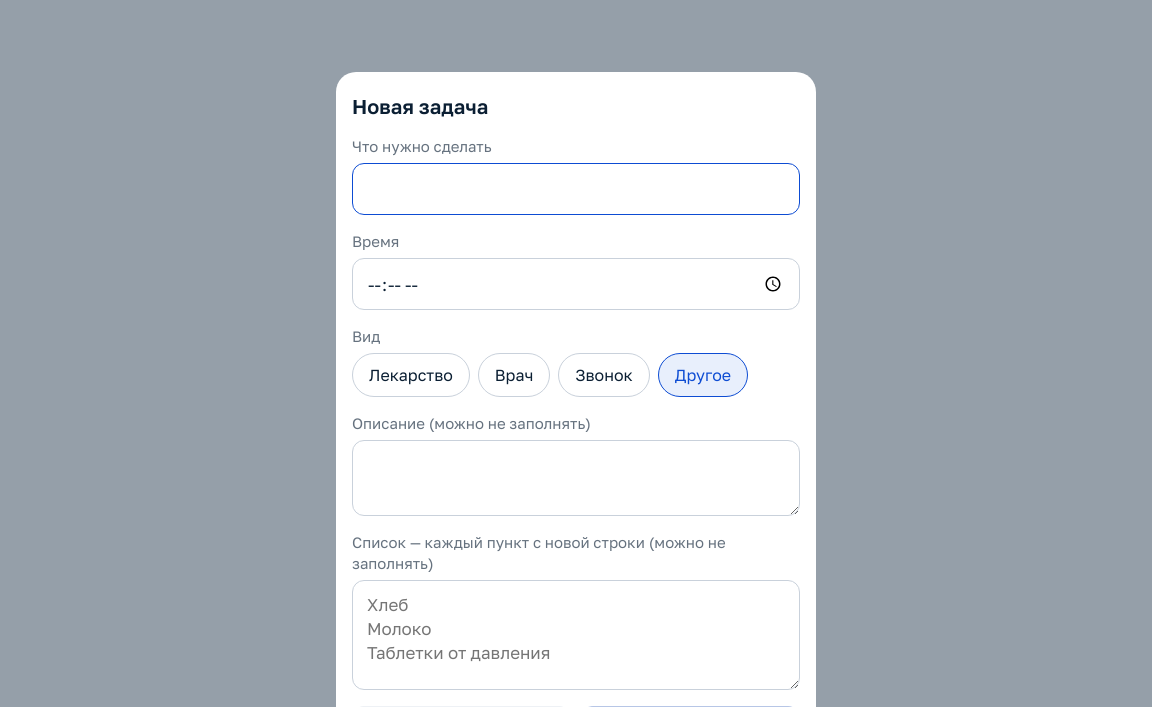
Scenario: AddTaskForm › показывает ошибку сервера и не закрывается
Type "Дело" into the field labelled "Что нужно сделать".
click(576, 189); type("Дело")  # box [352,163,800,215]
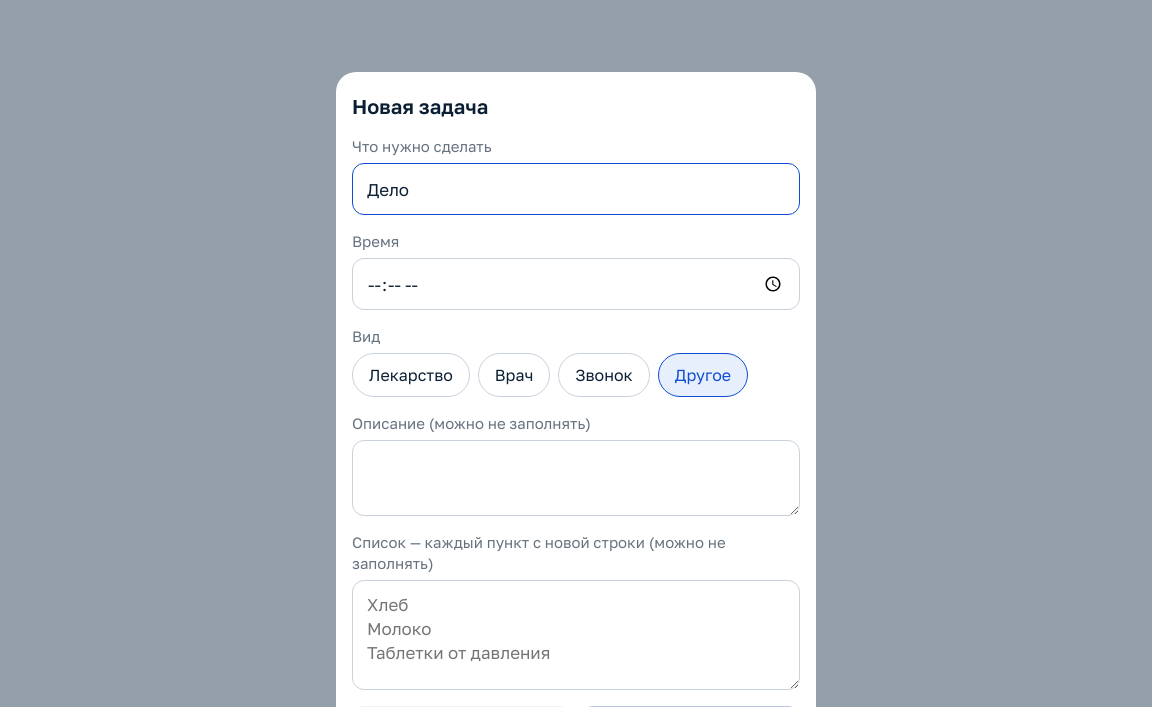
Type "10:00" into the time field labelled "Время".
click(576, 284); type("10:00")  # box [352,258,800,310]
(page scrolled)
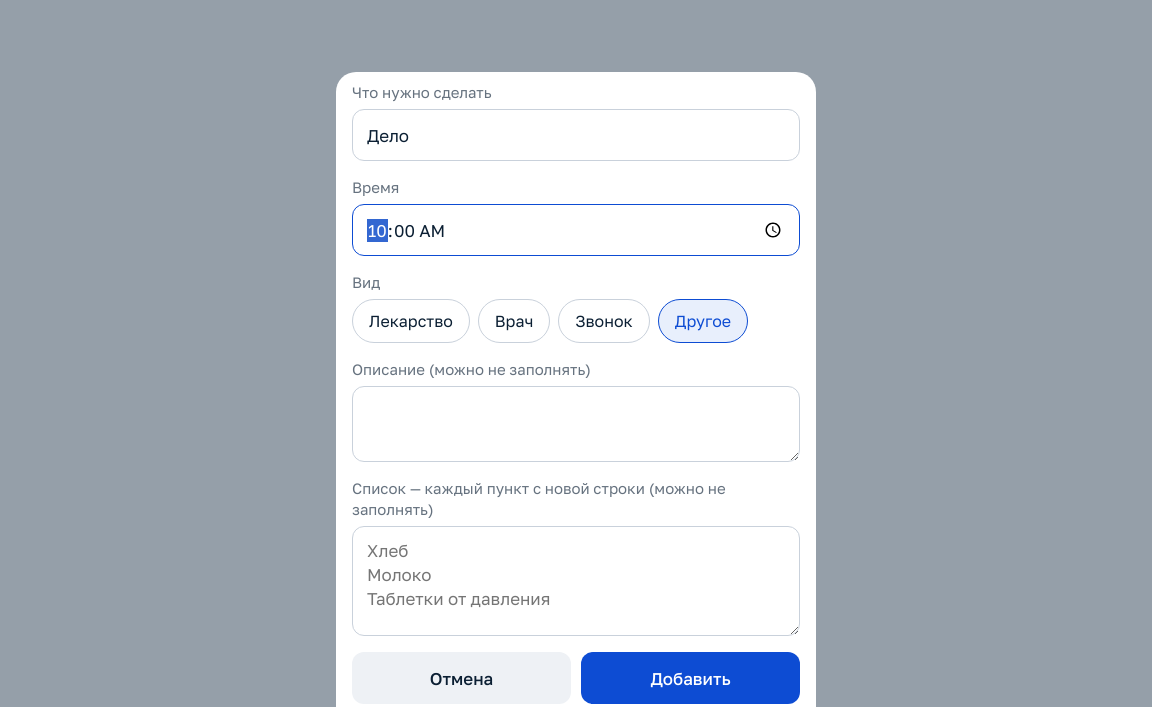
Click the button "Добавить".
click(690, 678)  # box [581,652,800,704]
(page scrolled)
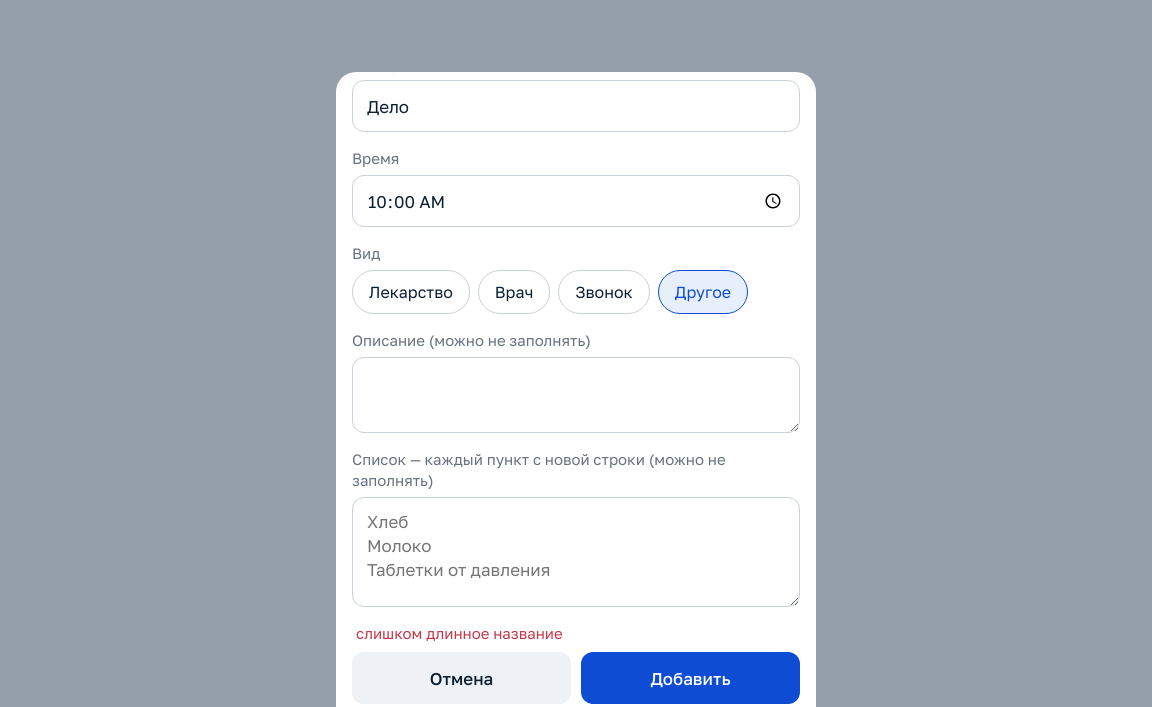
Check: the button "Добавить" is enabled, box [581,652,800,704]
Check: the text "слишком длинное название" is shown, box [356,624,563,642]
